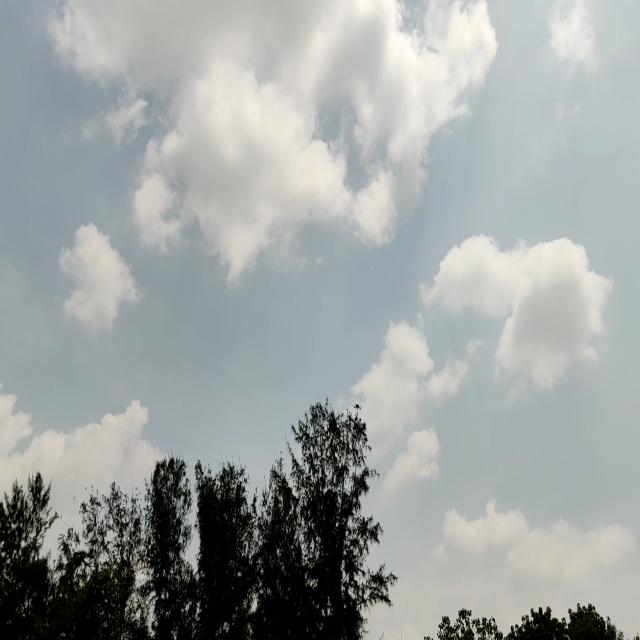drone: (351, 398, 365, 418)
